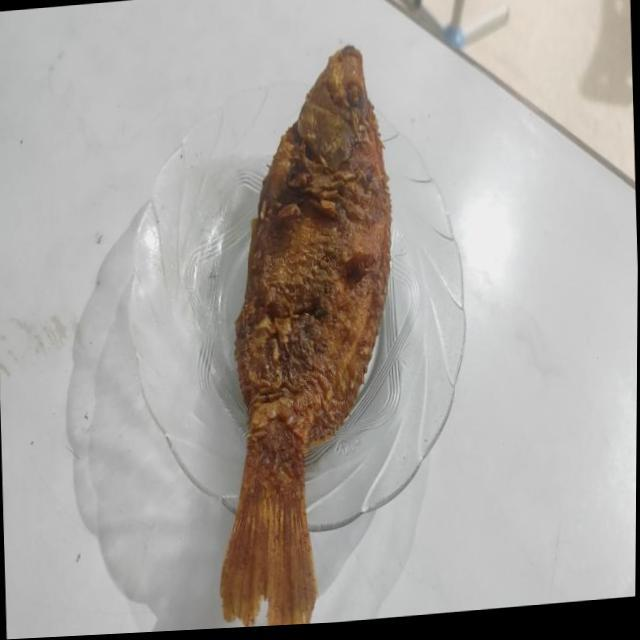ikan_mujair: (220, 46, 390, 627)
